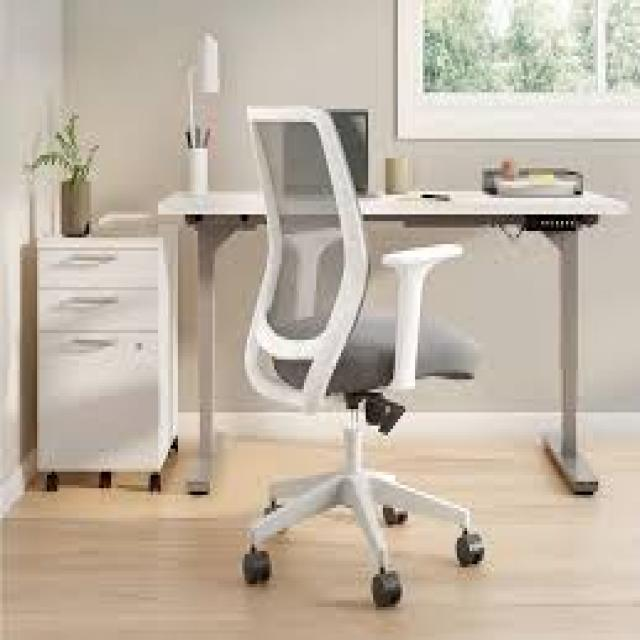chair: (140, 78, 538, 630)
